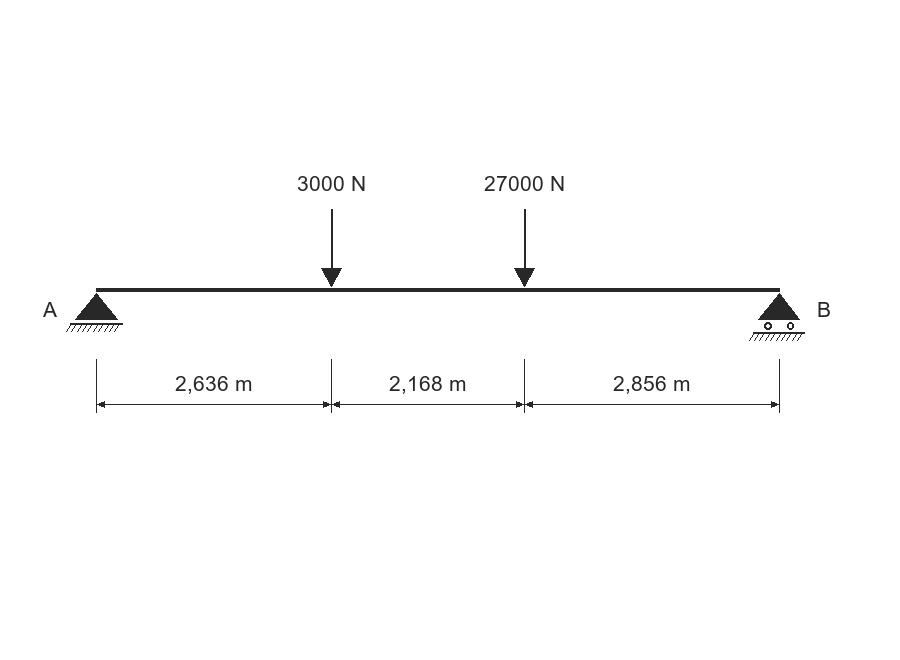pin_support: (66, 293, 123, 332)
point_load: (321, 209, 342, 287), (514, 209, 535, 287)
roller_support: (749, 293, 805, 341)
